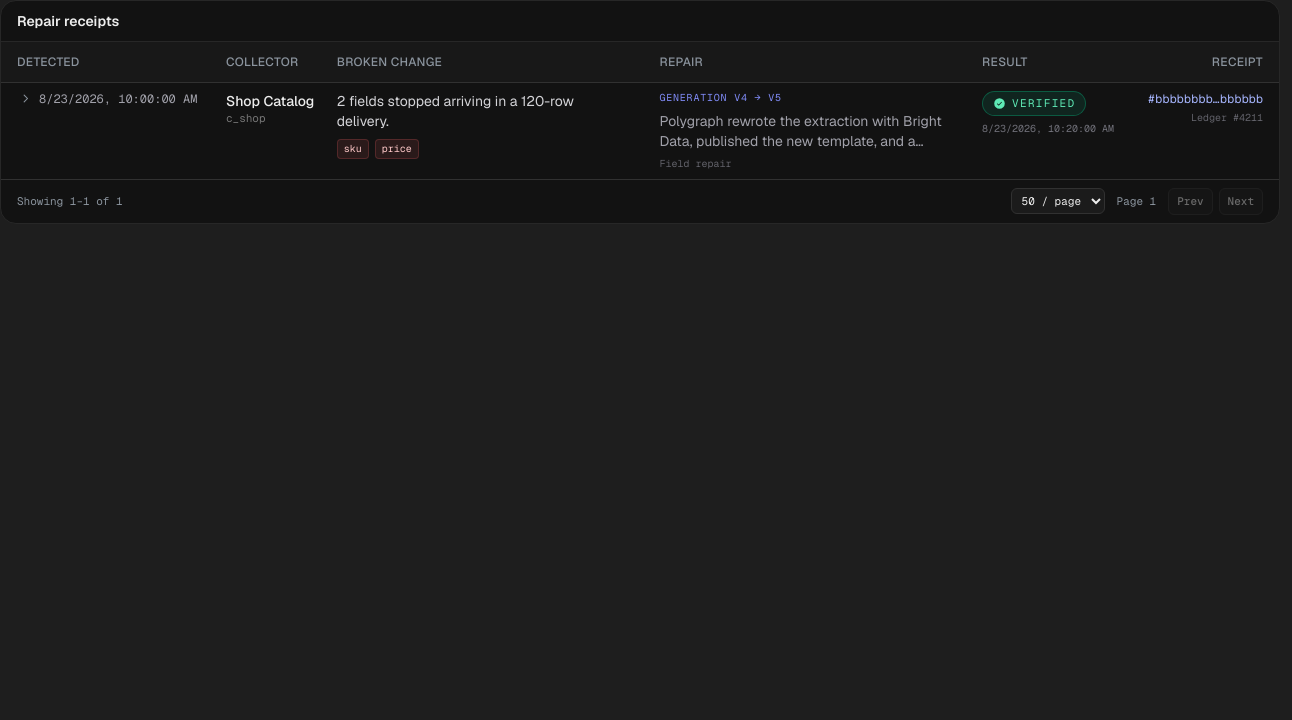
RepairsTable — a repair row expands into its receipt › renders every recorded step of the repair, in order, with its duration
Click the button named "show repair receipt". click: (25, 98)
box: [17,90,33,106]
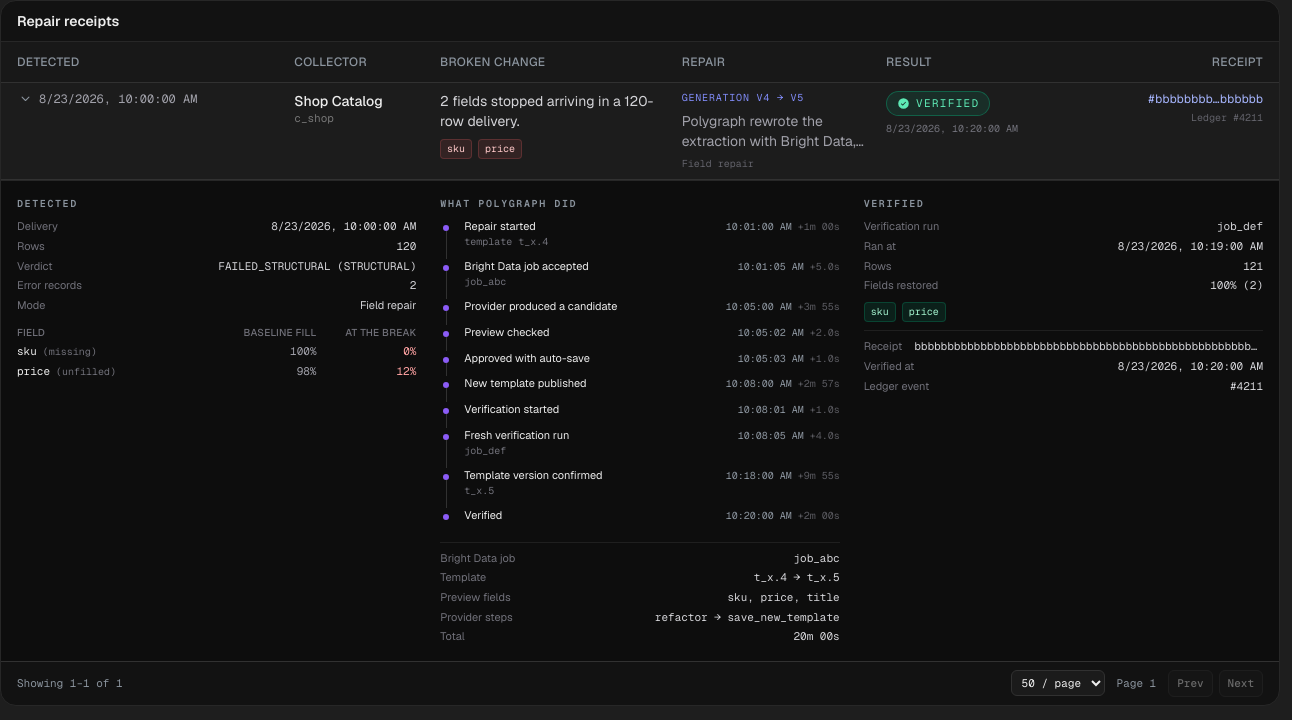
Result: the text "Repair started" is shown at [464,219,548,235]
Result: the text "Bright Data job accepted" is shown at [464,259,589,275]
Result: the text "Provider produced a candidate" is shown at [464,299,617,315]
